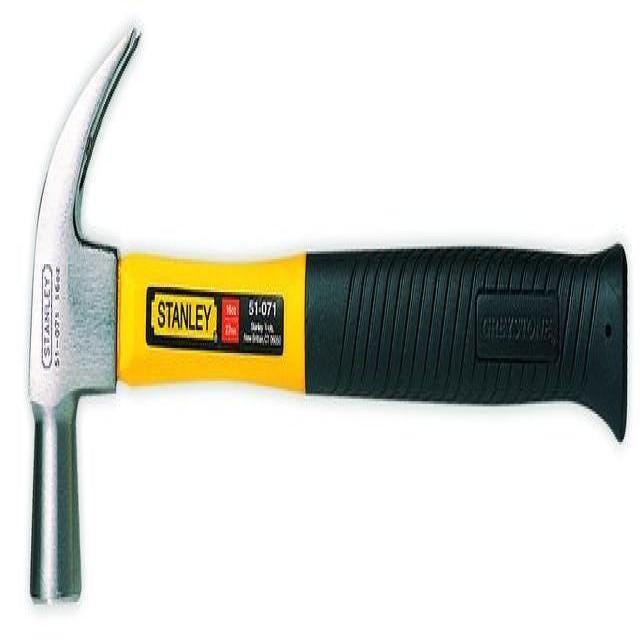hammer: (20, 16, 632, 608)
